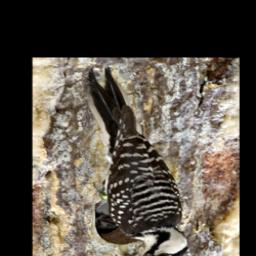Woodpecker: (84, 65, 190, 256)
